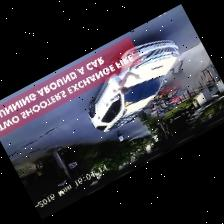person: (104, 71, 140, 93), (171, 59, 187, 84), (35, 163, 42, 175), (118, 133, 123, 140)
